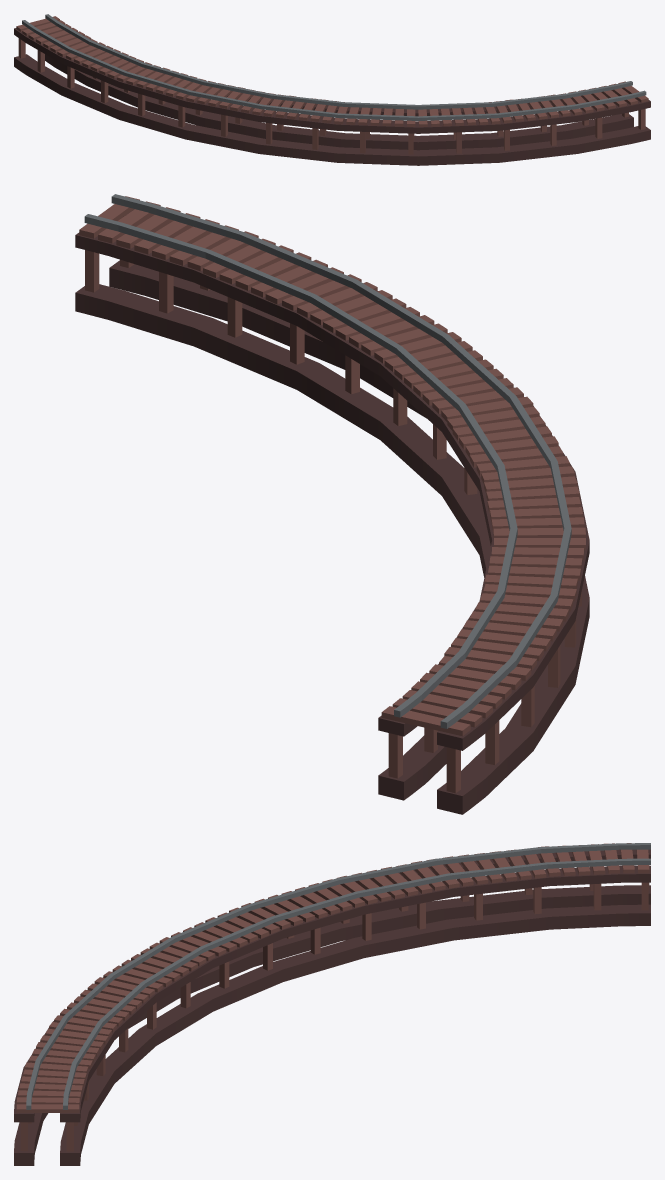
The model's file is DarkRoseWoodMechLarge0_96GaugeLeftTurn1.fbx.
The picture shows the model from 3 angles, top to bottom: view 1: azimuth 30°, elevation 25°; view 2: azimuth 150°, elevation 25°; view 3: azimuth 270°, elevation 25°; orthographic projection. The views are drawn at different scales.
Parts seen in each view (by area): view 1: DarkRoseWoodMechLarge0_96GaugeLeftTurn1; view 2: DarkRoseWoodMechLarge0_96GaugeLeftTurn1; view 3: DarkRoseWoodMechLarge0_96GaugeLeftTurn1.
Boxes of the visible parts, left/top/right/bottom form: DarkRoseWoodMechLarge0_96GaugeLeftTurn1: left=14, top=14, right=650, bottom=165; DarkRoseWoodMechLarge0_96GaugeLeftTurn1: left=75, top=194, right=589, bottom=814; DarkRoseWoodMechLarge0_96GaugeLeftTurn1: left=14, top=843, right=650, bottom=1165.
Bounding box in the file's own units: 2111 × 221 × 2121.
